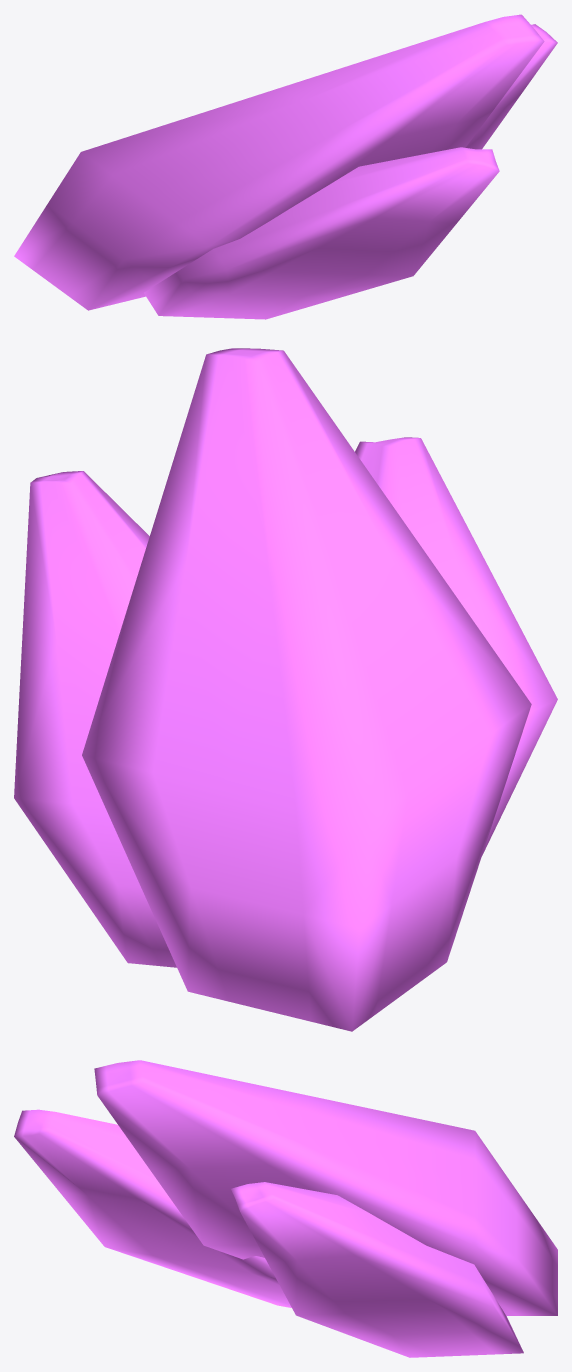
Rendered from EtherCrystal.fbx.
3 views of the same model, one above another, from view 1: azimuth 30°, elevation 25°; view 2: azimuth 150°, elevation 25°; view 3: azimuth 270°, elevation 25° (orthographic). The views are drawn at different scales.
Visible parts, largest first — view 1: CenterCrystal, RightCrystal, LeftCrystal; view 2: CenterCrystal, LeftCrystal, RightCrystal; view 3: CenterCrystal, LeftCrystal, RightCrystal.
Part boxes in pixels (box(x1,y1,x2,y2)): CenterCrystal: box(14, 14, 544, 310); RightCrystal: box(144, 147, 499, 319); LeftCrystal: box(466, 24, 557, 149); CenterCrystal: box(82, 348, 531, 1031); LeftCrystal: box(14, 471, 176, 967); RightCrystal: box(355, 437, 557, 855); CenterCrystal: box(94, 1060, 557, 1315); LeftCrystal: box(231, 1182, 523, 1357); RightCrystal: box(14, 1109, 291, 1307).
Size of the model in its own units: 352 by 272 by 401.
